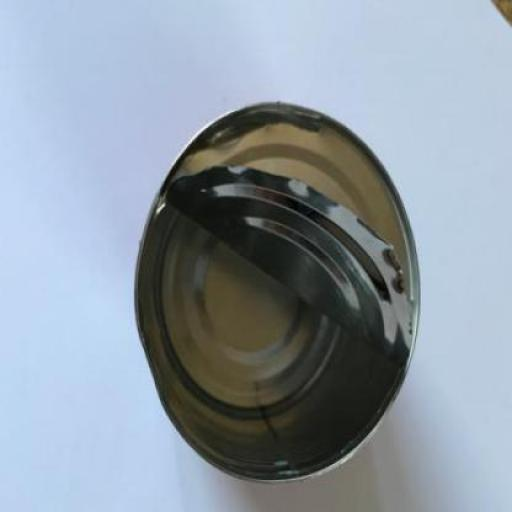metal: (135, 104, 421, 486)
